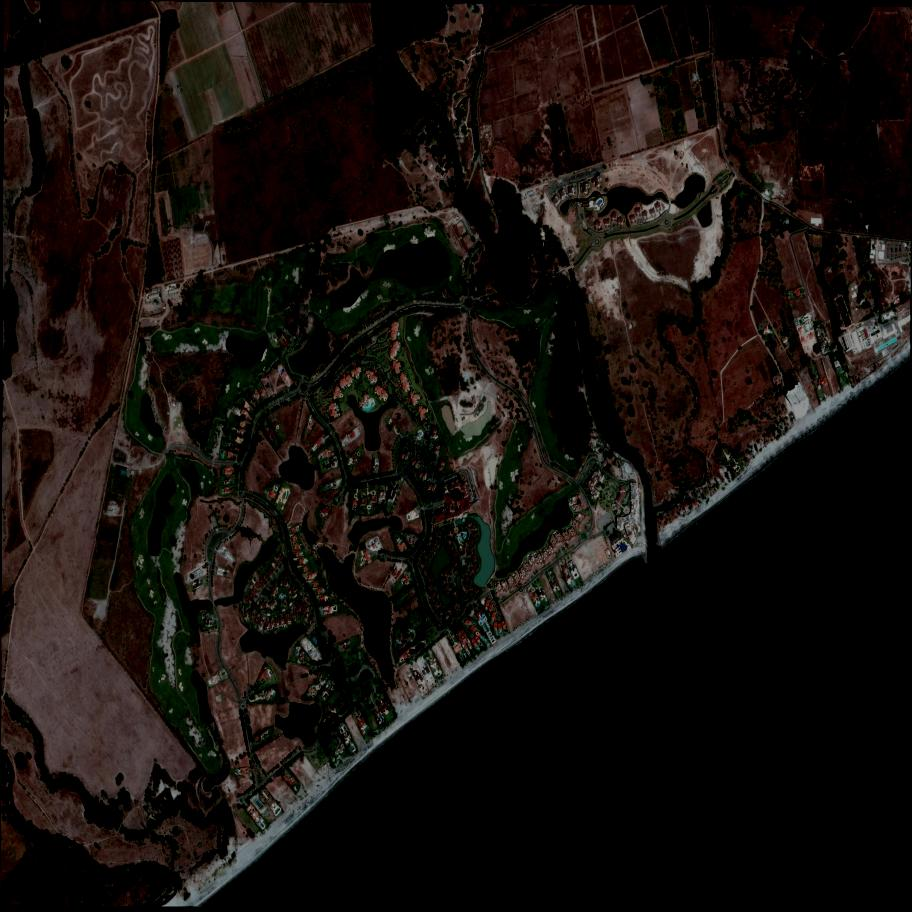ship: (694, 537, 696, 539), (713, 524, 713, 525)
